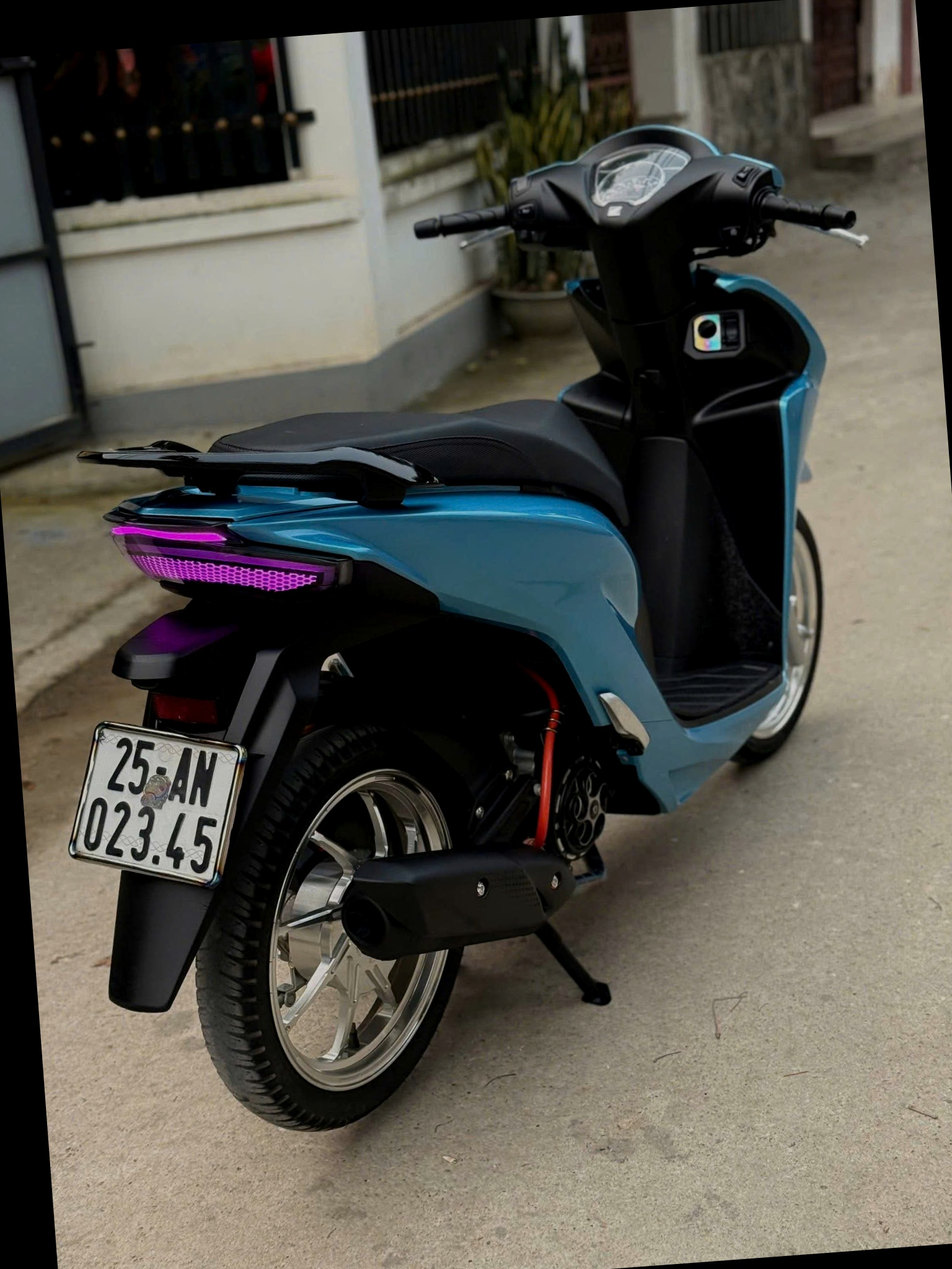Bien-so: (55, 713, 257, 898)
